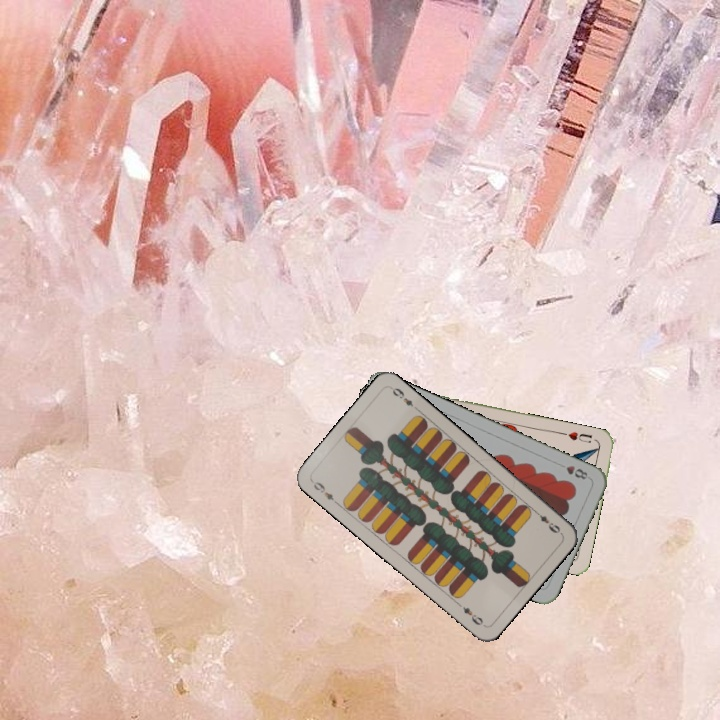E9: (530, 506, 564, 537), (308, 477, 341, 507)
H8: (554, 459, 590, 482)
HU: (559, 428, 595, 446)
